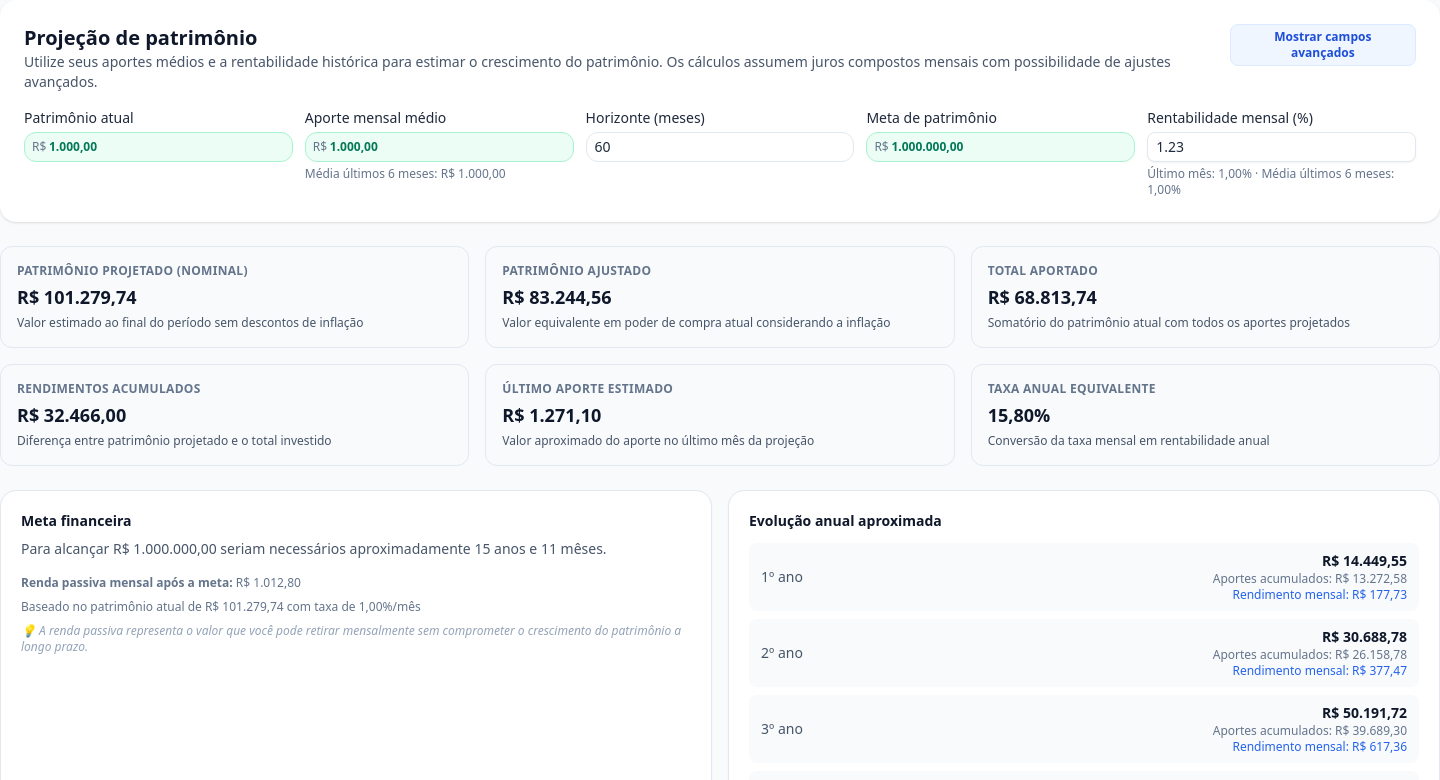
Projecoes › rounds monthly return input to 2 decimals
This screenshot has width=1440, height=780.
Replace the text in the number field labelled "Rentabilidade mensal" with "1.239" at (1282, 147), box [1147, 132, 1416, 162]
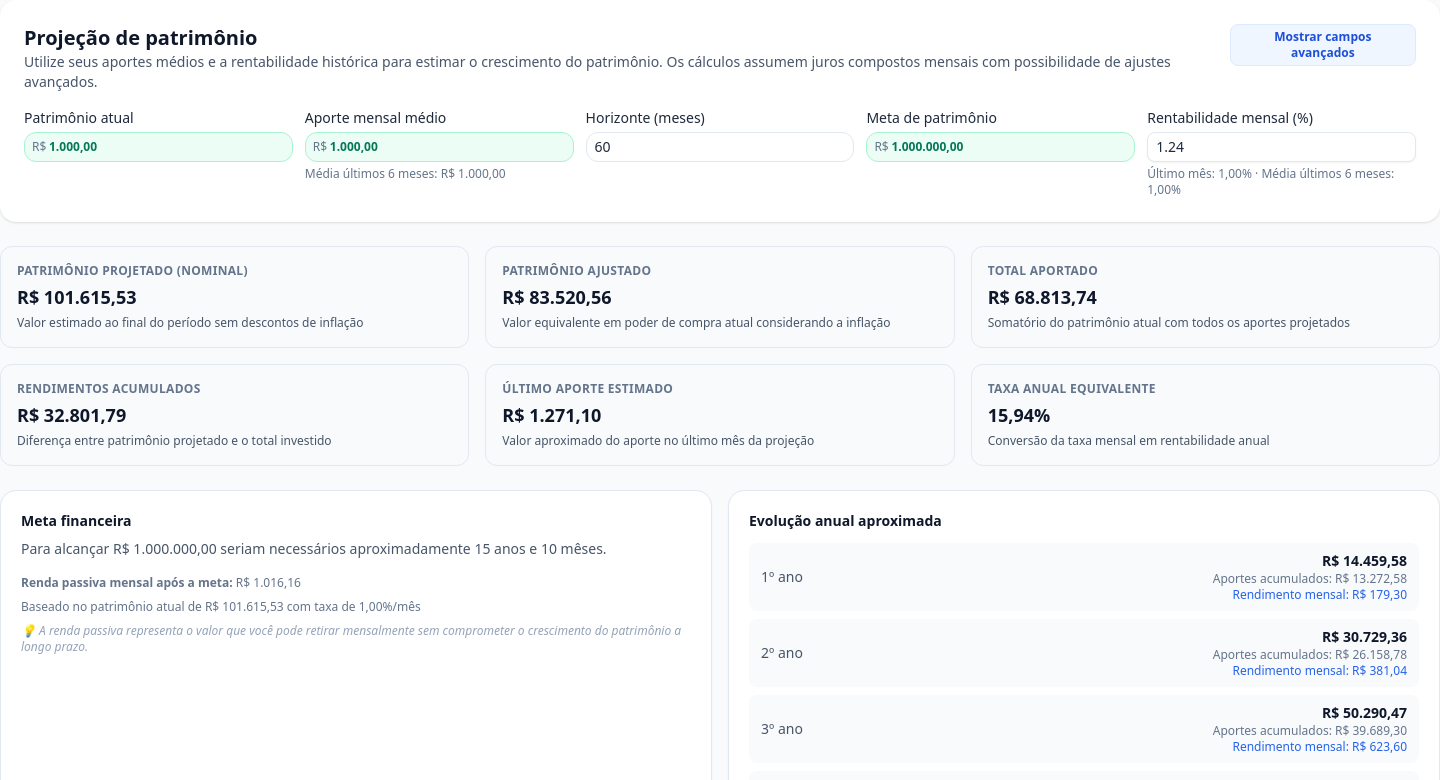
Result: the number field labelled "Rentabilidade mensal" holds "1.24" at [1147, 132, 1416, 162]
